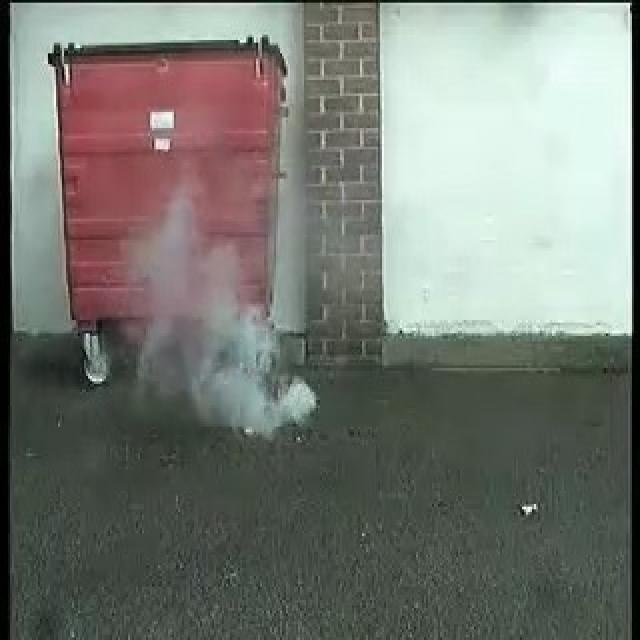smoke: (132, 200, 318, 431)
